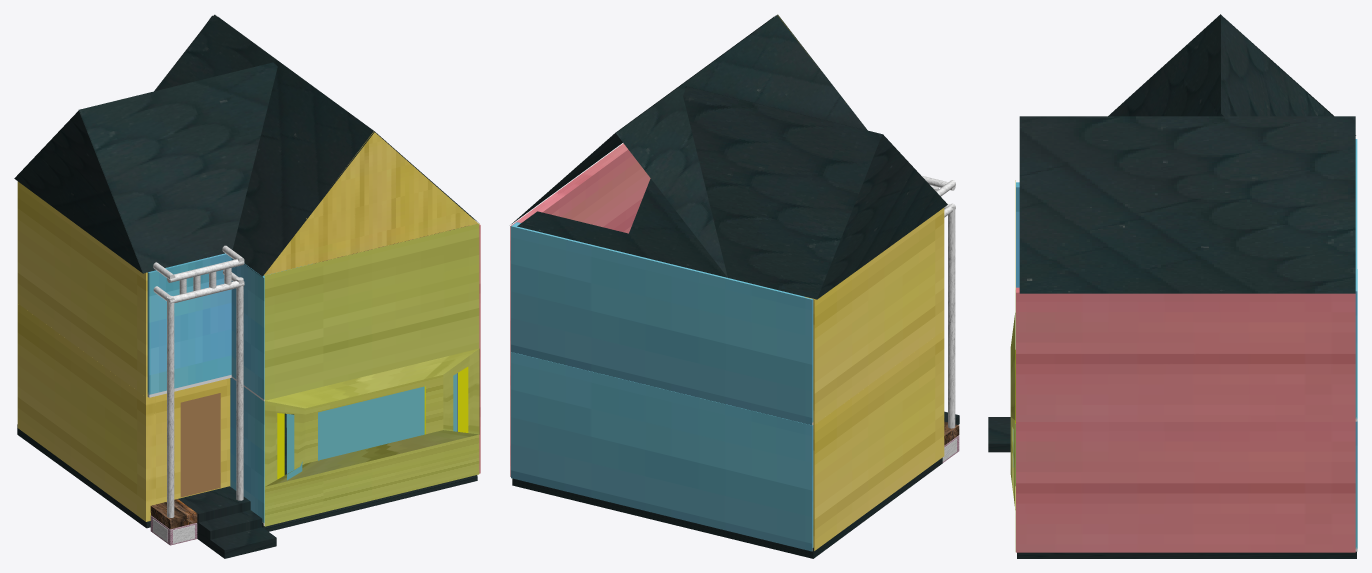
File: casa.obj
3 renders of one model, left to right at view 1: azimuth 30°, elevation 25°; view 2: azimuth 150°, elevation 25°; view 3: azimuth 270°, elevation 25°, orthographic. The views are drawn at different scales.
Parts seen in each view (by area): view 1: pasted__pCube8 group13, group22 pasted__pasted__pasted__pPlane1 pasted__pasted__group20 , pasted__pasted__pPlane1 pasted__group21 group23, pCube4, pasted__pCube4 group, pPlane3, pasted__pasted__pCube9 pasted__group2 group4, pCube8, pasted__pCube6 group11, pPlane1, pCube11, pCube9 (+11 smaller); view 2: pasted__pCube3 group14, pCube3, pasted__pasted__pPlane1 pasted__group20 group22, pCube4, pasted__pasted__pPlane1 pasted__group21 group23, pasted__pCube4 group, pPlane1, pasted__pCube2 group10, pCube1, pCylinder1, group23 pasted__pPlane1; view 3: group23 pasted__pPlane1, pCube2, pasted__pCube2 group10, group22 pasted__pasted__pasted__pPlane1 pasted__pasted__group20 , pasted__pasted__pPlane1 pasted__group20 group22, pCube1, pasted__pasted__pCube9 pasted__group2 group4, pasted__pCube3 group14, pCube9, pCube3.
Part boxes in pixels (left/top/right/bottom): pasted__pCube8 group13: left=264, top=223, right=479, bottom=400; group22 pasted__pasted__pasted__pPlane1 pasted__pasted__group20 : left=79, top=62, right=277, bottom=273; pasted__pasted__pPlane1 pasted__group21 group23: left=156, top=14, right=374, bottom=276; pCube4: left=17, top=303, right=155, bottom=521; pasted__pCube4 group: left=17, top=181, right=147, bottom=397; pPlane3: left=264, top=131, right=477, bottom=275; pasted__pasted__pCube9 pasted__group2 group4: left=264, top=348, right=479, bottom=486; pCube8: left=264, top=434, right=479, bottom=526; pasted__pCube6 group11: left=147, top=253, right=231, bottom=397; pPlane1: left=14, top=110, right=143, bottom=273; pCube11: left=318, top=386, right=424, bottom=460; pCube9: left=178, top=486, right=276, bottom=558; pasted__pCube3 group14: left=511, top=222, right=813, bottom=425; pCube3: left=511, top=352, right=813, bottom=551; pasted__pasted__pPlane1 pasted__group20 group22: left=517, top=86, right=882, bottom=299; pCube4: left=813, top=330, right=944, bottom=550; pasted__pasted__pPlane1 pasted__group21 group23: left=616, top=14, right=867, bottom=278; pasted__pCube4 group: left=805, top=207, right=944, bottom=424; pPlane1: left=817, top=134, right=947, bottom=299; pasted__pCube2 group10: left=510, top=143, right=650, bottom=350; pCube1: left=512, top=457, right=942, bottom=558; pCylinder1: left=948, top=204, right=955, bottom=428; group23 pasted__pPlane1: left=511, top=15, right=775, bottom=224; group23 pasted__pPlane1: left=1019, top=116, right=1355, bottom=293; pCube2: left=1016, top=422, right=1355, bottom=552; pasted__pCube2 group10: left=1016, top=287, right=1355, bottom=421; group22 pasted__pasted__pasted__pPlane1 pasted__pasted__group20 : left=1108, top=14, right=1220, bottom=116; pasted__pasted__pPlane1 pasted__group20 group22: left=1221, top=15, right=1332, bottom=116; pCube1: left=1017, top=551, right=1356, bottom=558; pasted__pasted__pCube9 pasted__group2 group4: left=1010, top=313, right=1015, bottom=509; pasted__pCube3 group14: left=1355, top=139, right=1357, bottom=421; pCube9: left=988, top=417, right=1010, bottom=452; pCube3: left=1355, top=269, right=1357, bottom=551.
Size of what is drawn, in the model's own units: 15.37 by 18.12 by 15.38.
19 materials, 15 textured.
